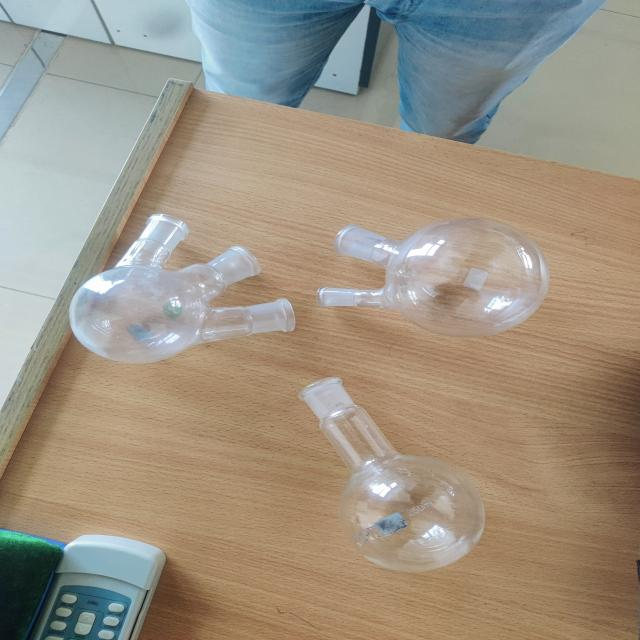Round_Bottom_Flask_Borosilicate_Glass_1_Neck: (233, 354, 531, 596)
Round_Bottom_Flask_Borosilicate_Glass_2_Neck: (305, 200, 618, 353)
Round_Bottom_Flask_Borosilicate_Glass_3_Neck: (54, 191, 319, 377)
